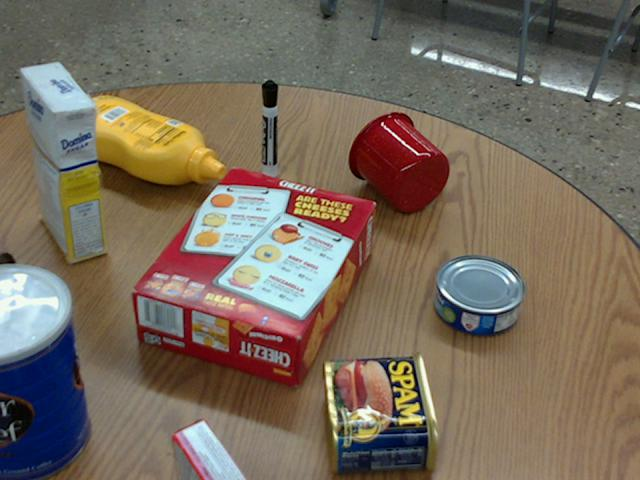cracker_box: (131, 169, 375, 384)
gelatin_box: (171, 417, 245, 479)
large_marker: (261, 80, 277, 176)
master_chef_can: (0, 261, 88, 479)
mug: (348, 111, 450, 212)
mustard_bottle: (63, 97, 224, 184)
potted_meat_can: (323, 352, 437, 473)
sugar_box: (22, 62, 103, 262)
tomato_soup_can: (0, 250, 16, 322)
tuna_fish_can: (434, 255, 525, 335)
